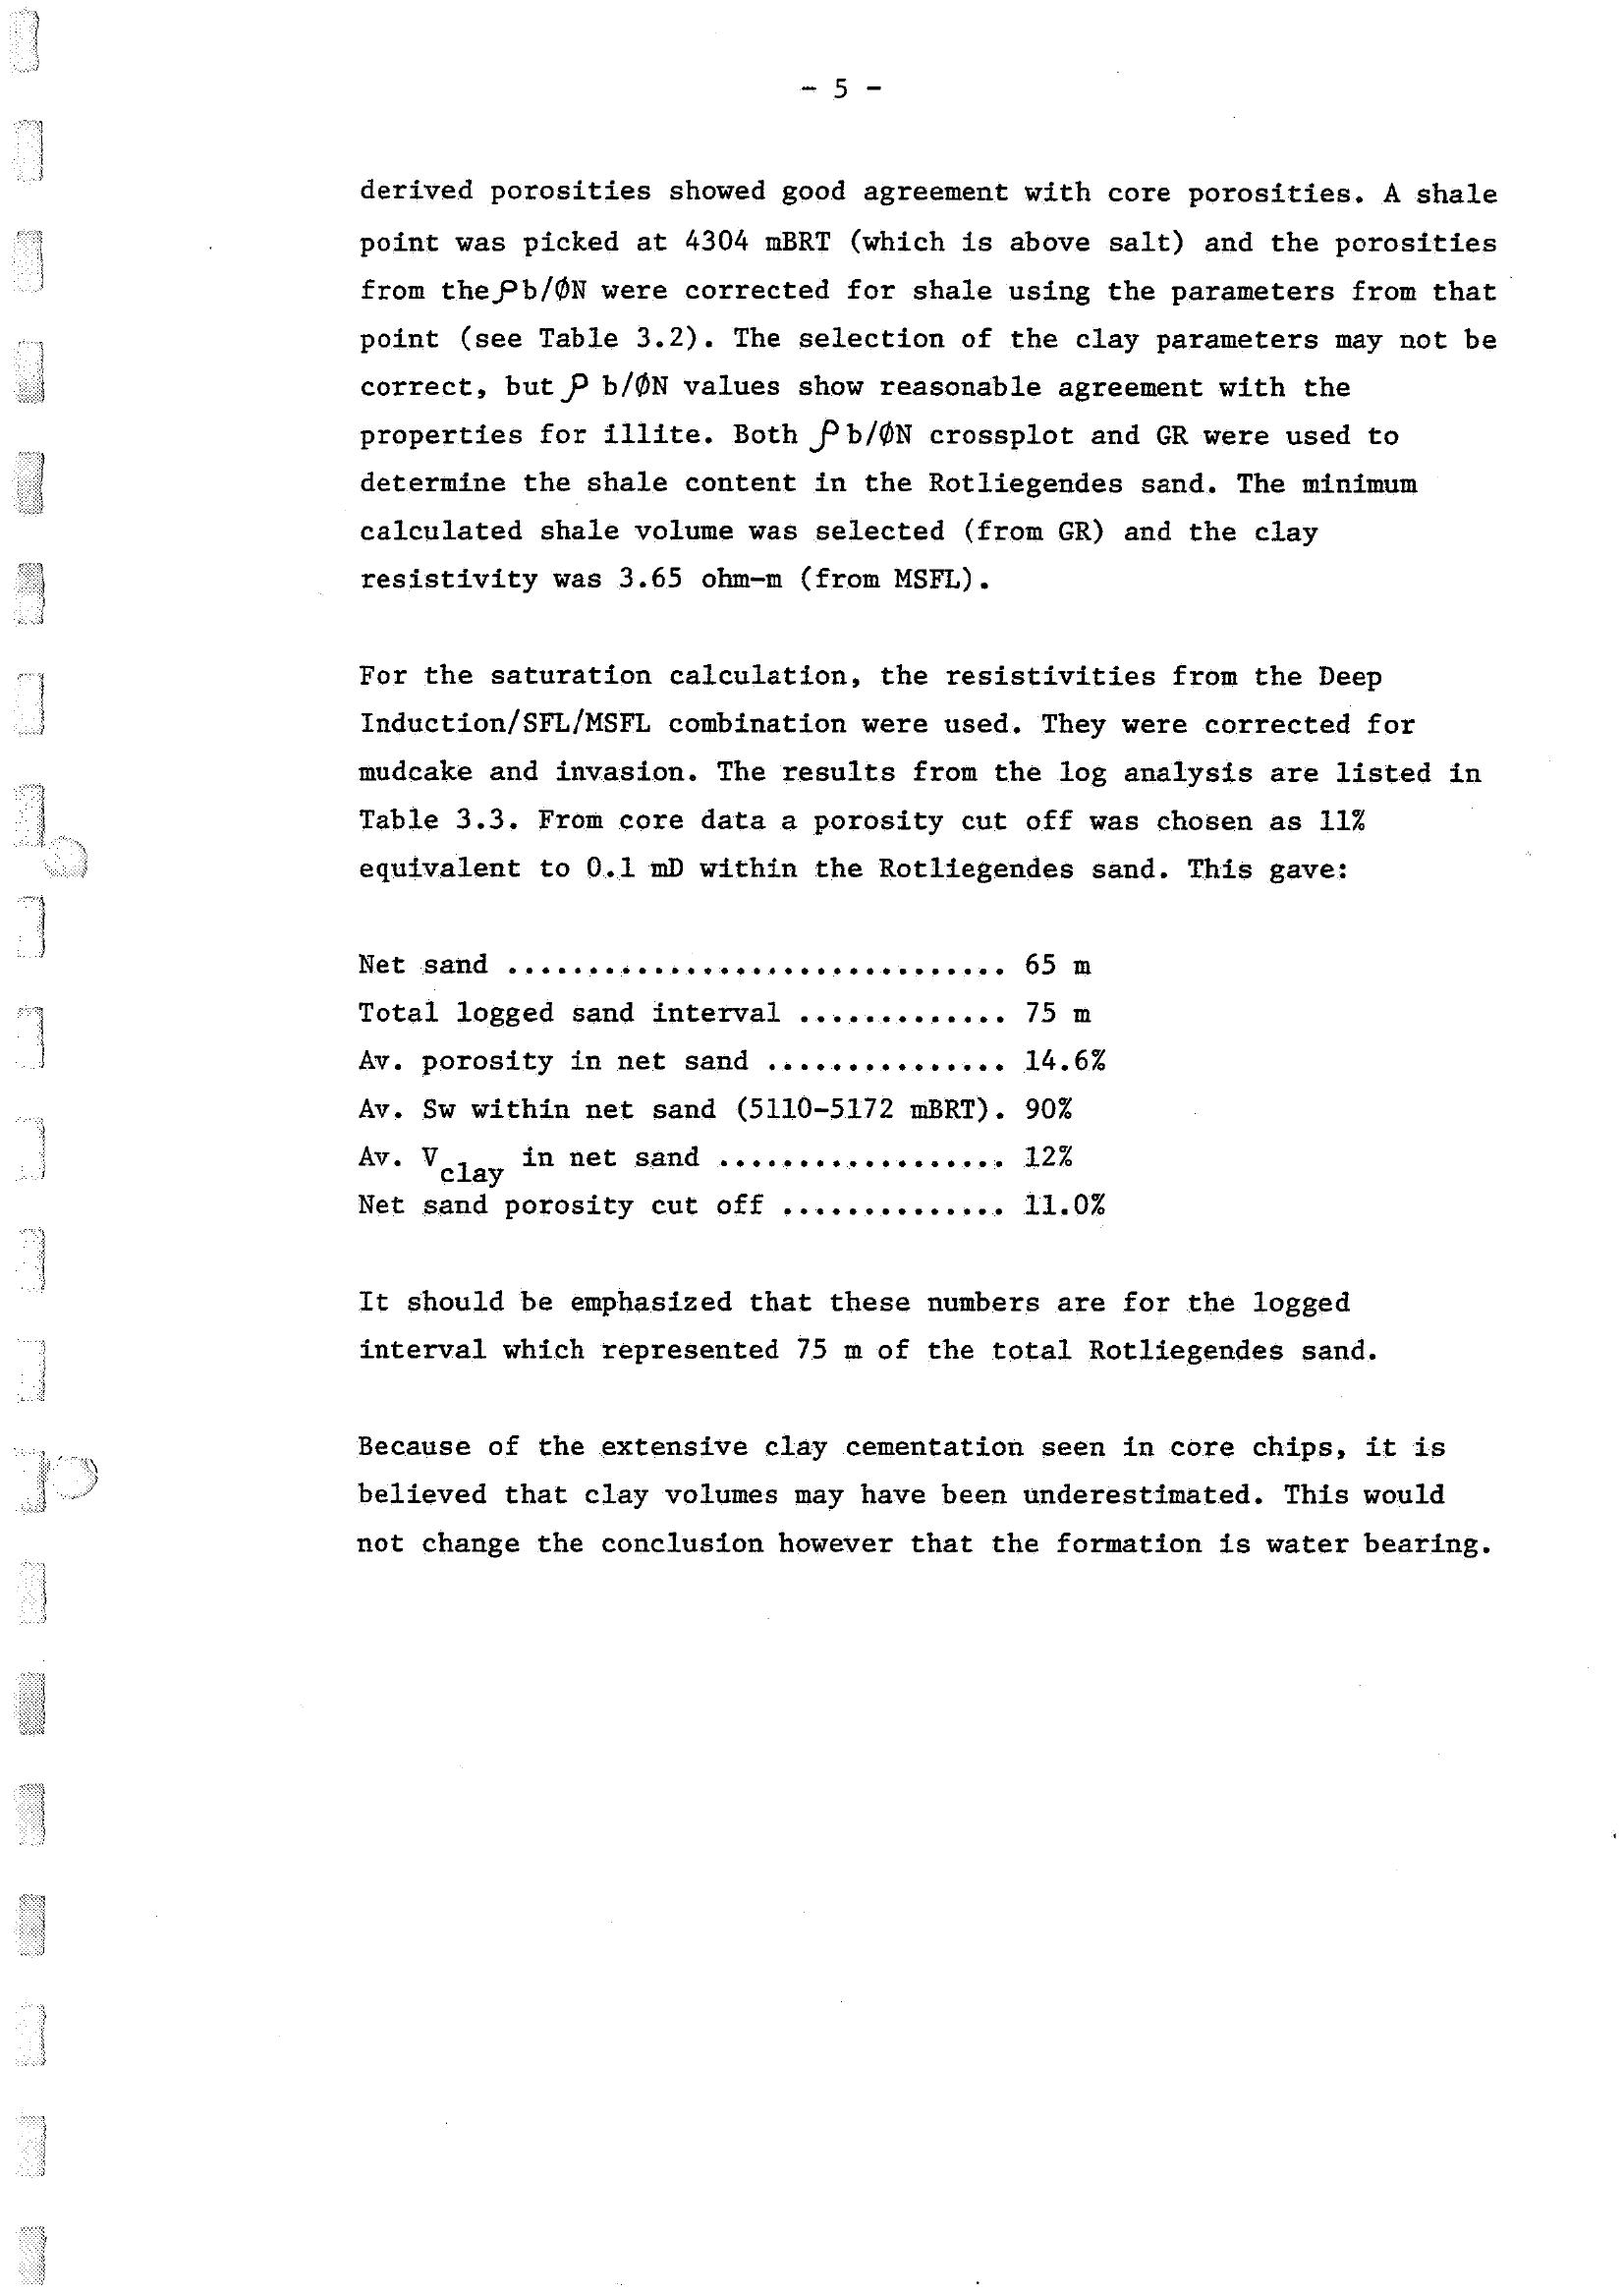text: (318, 139, 1541, 1583)
